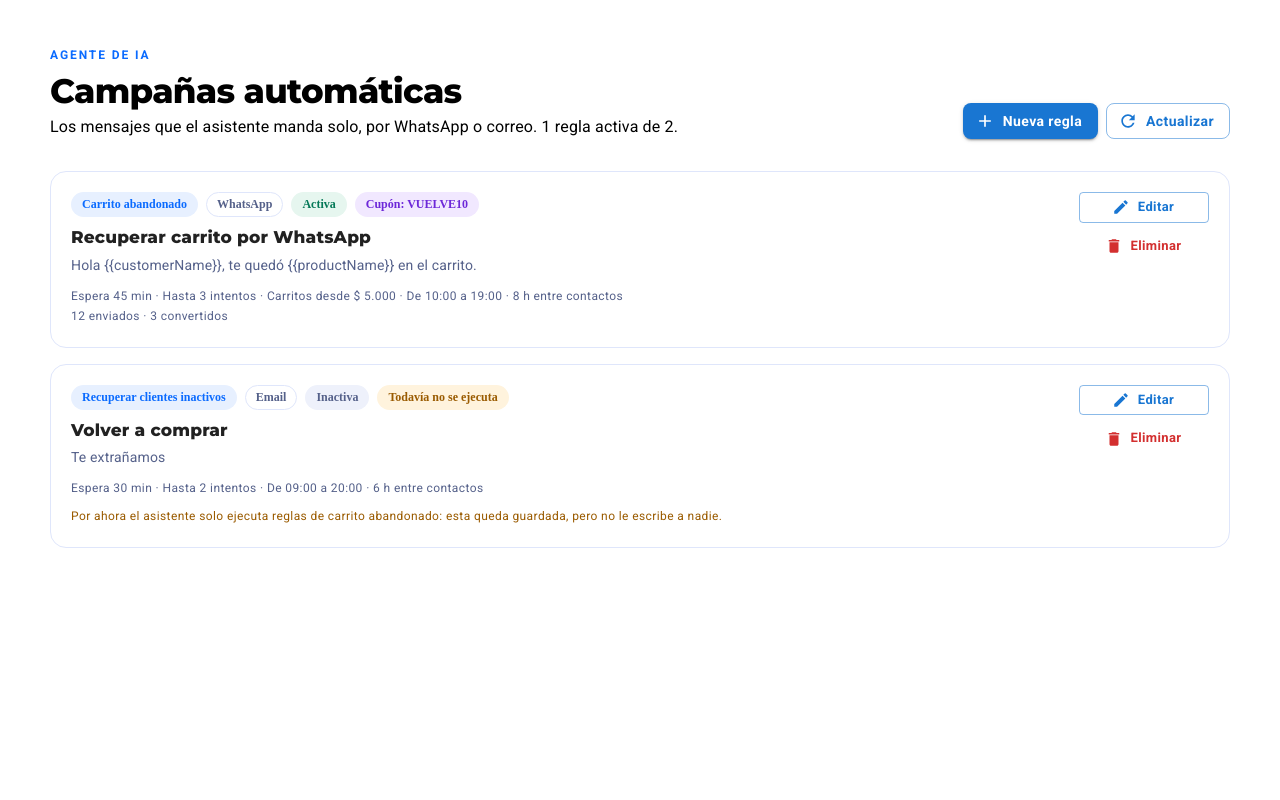
it: Campañas · crear y editar › si falla guardar avisa y el diálogo sigue abierto
The image size is (1280, 800).
Click the button "Nueva regla" at coordinates (1030, 121), box 963,102 -> 1098,139
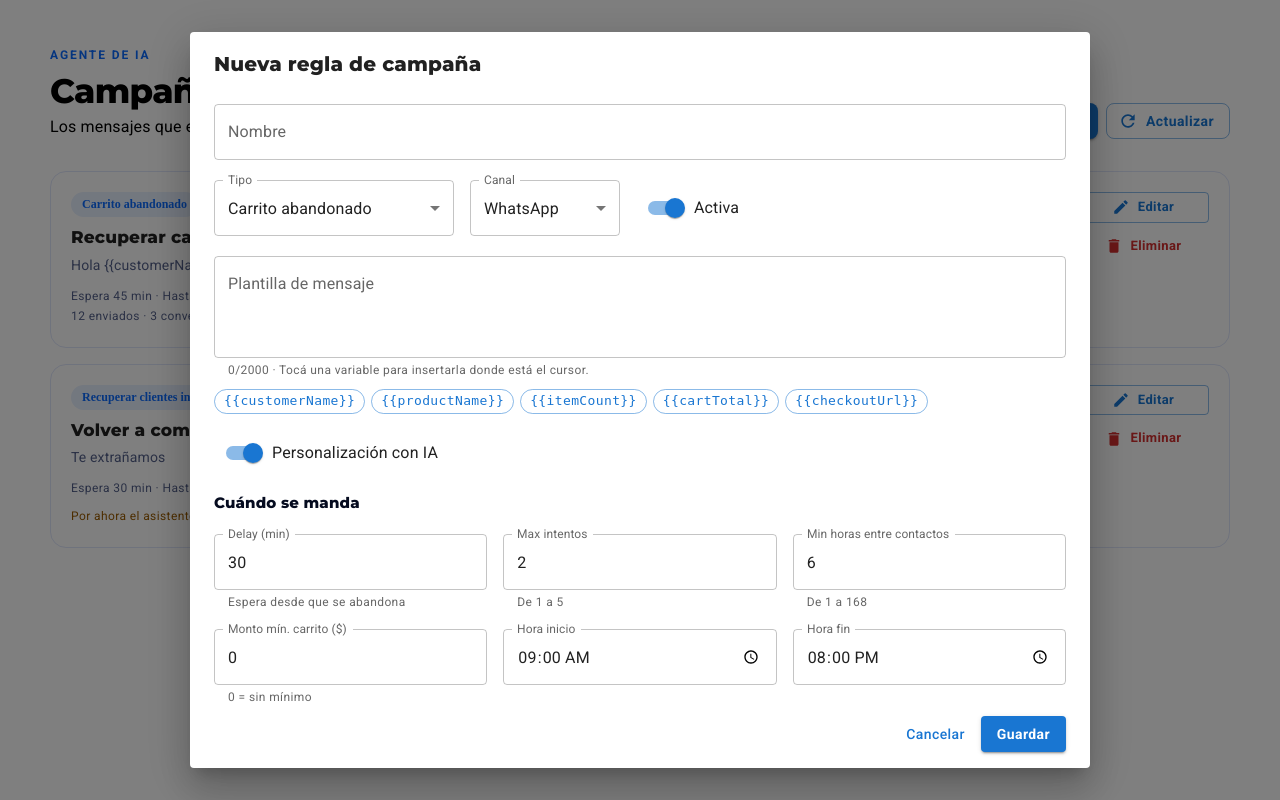
Type "Carrito" into the field labelled "Nombre" at coordinates (640, 132), box 214,104 -> 1066,160
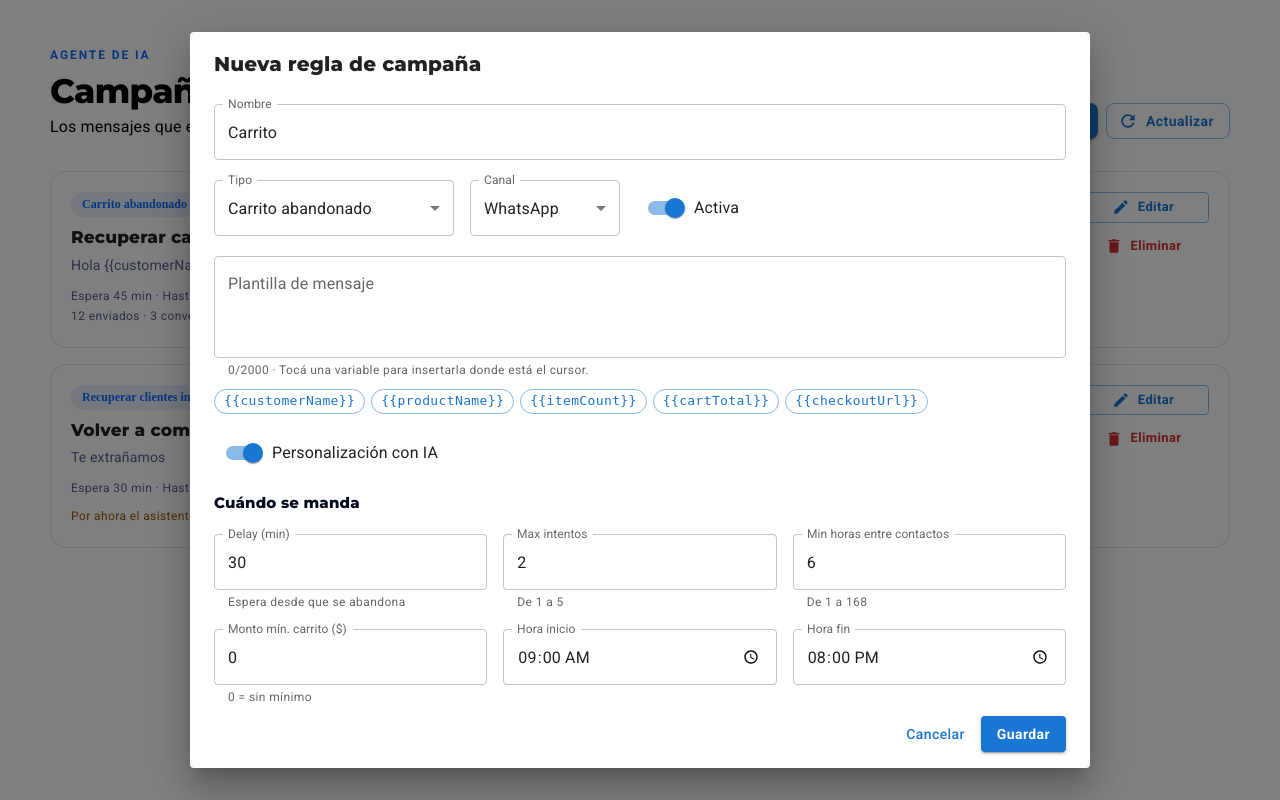
Type "Hola" into the text box labelled "Plantilla de mensaje" at coordinates (640, 307), box 228,272 -> 1052,342
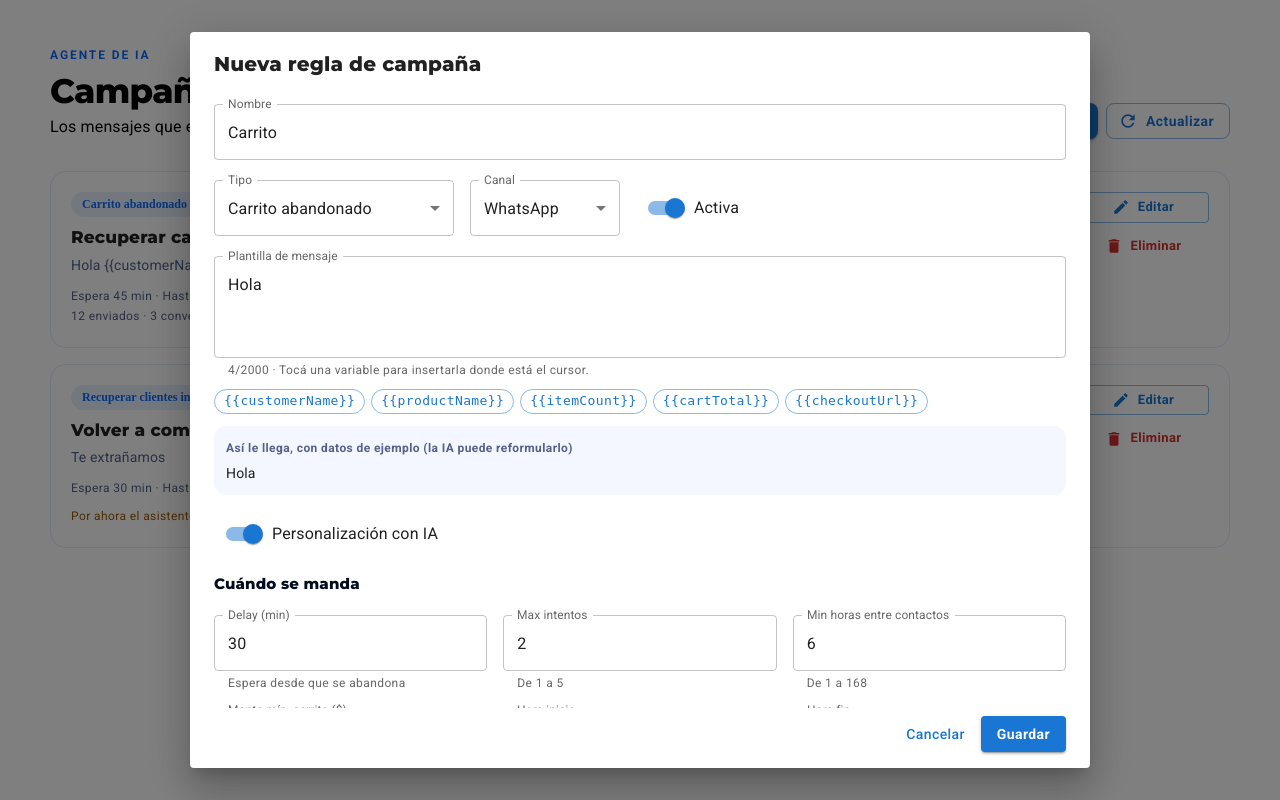
Click the button "Guardar" at coordinates (1023, 734), box 981,716 -> 1066,752
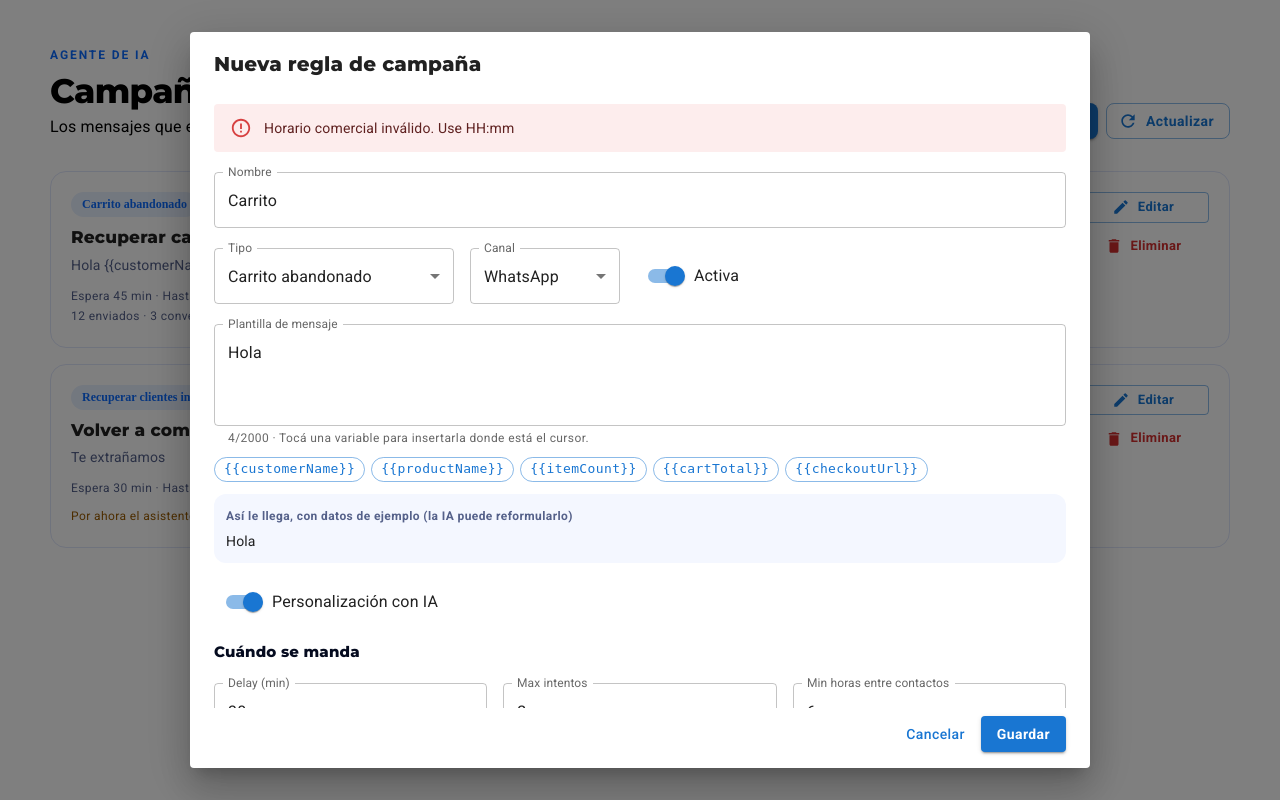
Result: the dialog is shown
Result: the text "Horario comercial inválido. Use HH:mm" is shown at 264,120 -> 514,136
